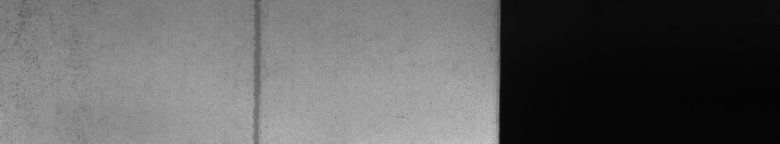hd: (245, 4, 265, 136)
